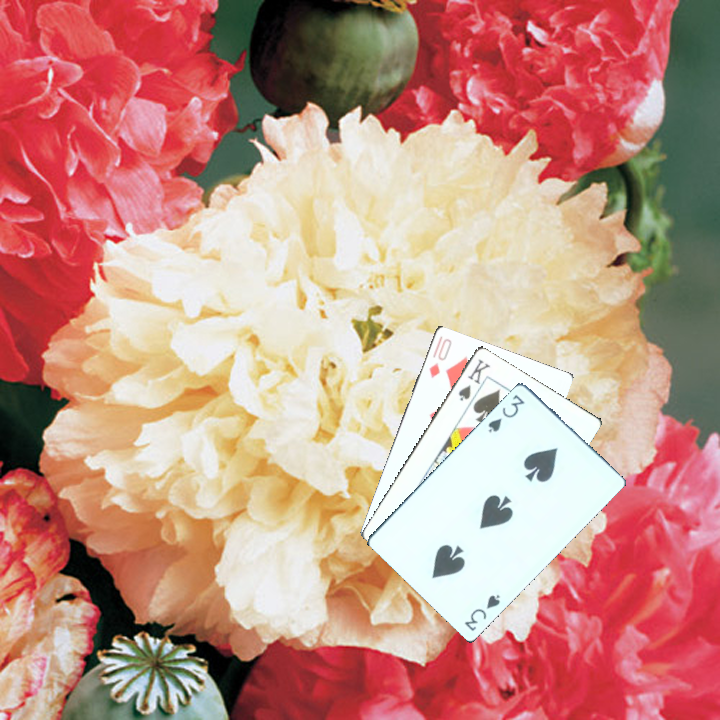10d: (425, 334, 454, 380)
3s: (484, 390, 527, 434), (460, 590, 503, 634)
Ks: (454, 355, 492, 404)
